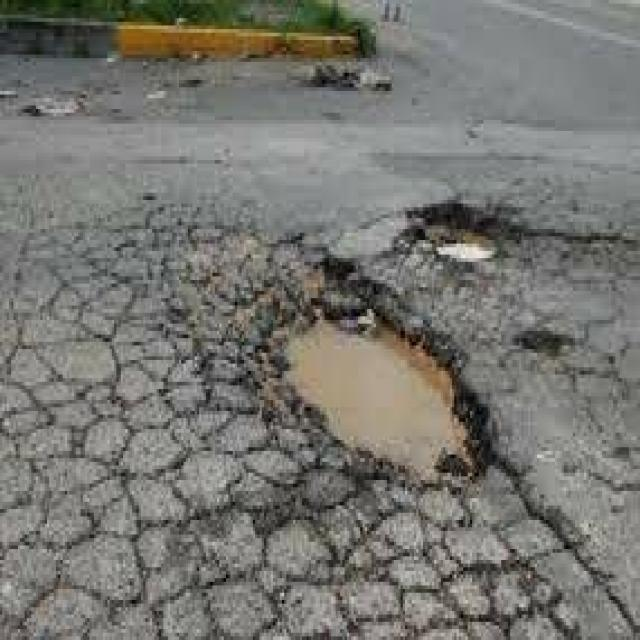Pothole: (235, 249, 498, 500)
